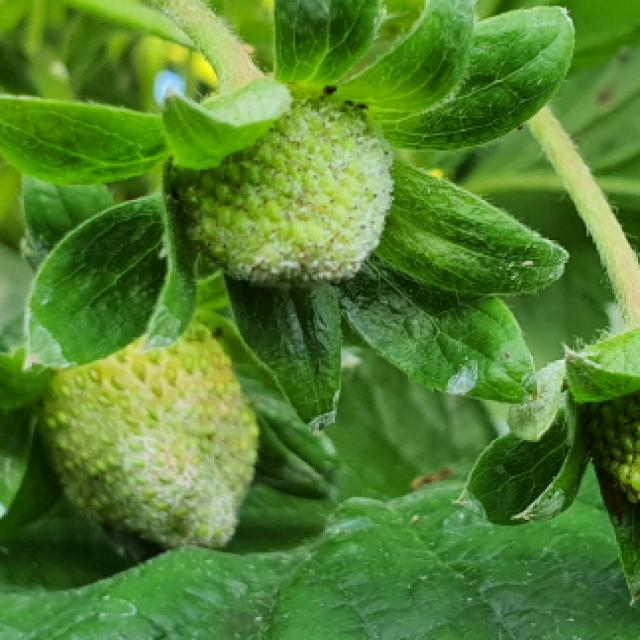Powdery Mildew Fruit: (170, 84, 398, 285), (67, 412, 265, 551)
